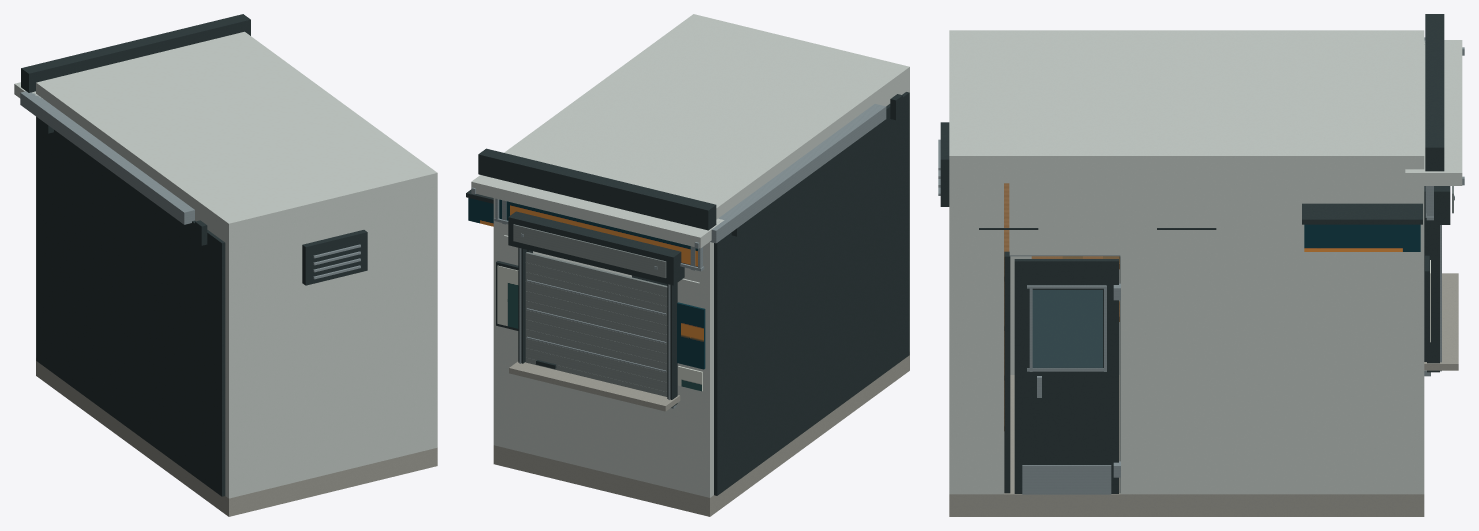
3 views of the same model, side by side, from view 1: azimuth 30°, elevation 25°; view 2: azimuth 150°, elevation 25°; view 3: azimuth 270°, elevation 25° (orthographic). The views are drawn at different scales.
Visible parts, largest first — view 1: VIS_Rear_Wall_006, VIS_Station_SideMatingStrip_122, VIS_Roof_Main_001, VIS_Concrete_Subfloor_000, VIS_Roof_Fascia_002, VIS_Station_Canopy_Connection_123, VIS_Rear_ExhaustHousing_041; view 2: VIS_Station_SideMatingStrip_122, VIS_Roof_Main_001, VIS_Front_Lower_Sill_021, VIS_Concrete_Subfloor_000, VIS_Roof_Fascia_002, VIS_Roof_FrontCanopy_003, VIS_Station_Canopy_Connection_123, VIS_Shutter_Roll_Cassette_094, VIS_West_SolidWall_007, VIS_Shutter_Cassette_AccessFlap_095, VIS_Front_External_CounterLip_028, VIS_East_FrontWall_015 (+22 smaller); view 3: VIS_East_FrontWall_015, VIS_Roof_Main_001, VIS_StaffDoor_Leaf_Display_126, VIS_East_RearWall_016, VIS_Concrete_Subfloor_000, VIS_East_Door_Head_017, VIS_StaffDoor_Glass_Display_127, VIS_Rear_Wall_006, VIS_Roof_FrontCanopy_003, VIS_Station_Wayfinding_Blade_119, VIS_Roof_Fascia_002, VIS_StaffDoor_Kickplate_Display_136 (+9 smaller).
Boxes of the visible parts, box(x1,y1,x2,y2) form: VIS_Rear_Wall_006: box(223, 186, 437, 498); VIS_Station_SideMatingStrip_122: box(36, 117, 225, 496); VIS_Roof_Main_001: box(36, 31, 437, 237); VIS_Concrete_Subfloor_000: box(36, 358, 437, 516); VIS_Roof_Fascia_002: box(21, 14, 250, 92); VIS_Station_Canopy_Connection_123: box(20, 91, 194, 224); VIS_Rear_ExhaustHousing_041: box(302, 230, 367, 285); VIS_Station_SideMatingStrip_122: box(714, 92, 909, 495); VIS_Roof_Main_001: box(504, 14, 909, 219); VIS_Front_Lower_Sill_021: box(493, 359, 713, 497); VIS_Concrete_Subfloor_000: box(493, 352, 909, 516); VIS_Roof_Fascia_002: box(478, 148, 716, 230); VIS_Roof_FrontCanopy_003: box(471, 175, 724, 248); VIS_Station_Canopy_Connection_123: box(710, 104, 886, 243); VIS_Shutter_Roll_Cassette_094: box(508, 211, 684, 285); VIS_West_SolidWall_007: box(699, 242, 713, 497); VIS_Shutter_Cassette_AccessFlap_095: box(513, 224, 666, 278); VIS_Front_External_CounterLip_028: box(509, 361, 680, 411); VIS_East_FrontWall_015: box(493, 198, 631, 447); VIS_East_FrontWall_015: box(1120, 171, 1424, 494); VIS_Roof_Main_001: box(949, 30, 1424, 174); VIS_StaffDoor_Leaf_Display_126: box(1014, 259, 1118, 493); VIS_East_RearWall_016: box(956, 171, 1003, 494); VIS_Concrete_Subfloor_000: box(949, 375, 1424, 516); VIS_East_Door_Head_017: box(1009, 171, 1120, 255); VIS_StaffDoor_Glass_Display_127: box(1032, 290, 1102, 367); VIS_Rear_Wall_006: box(949, 172, 963, 494); VIS_Roof_FrontCanopy_003: box(1405, 40, 1462, 185); VIS_Station_Wayfinding_Blade_119: box(1304, 224, 1420, 251); VIS_Roof_Fascia_002: box(1425, 14, 1444, 171); VIS_StaffDoor_Kickplate_Display_136: box(1022, 465, 1111, 494).
Bounding box in the file's own units: 2.96 × 3.47 × 4.43.
Materials: 13 (13 with a texture image).
